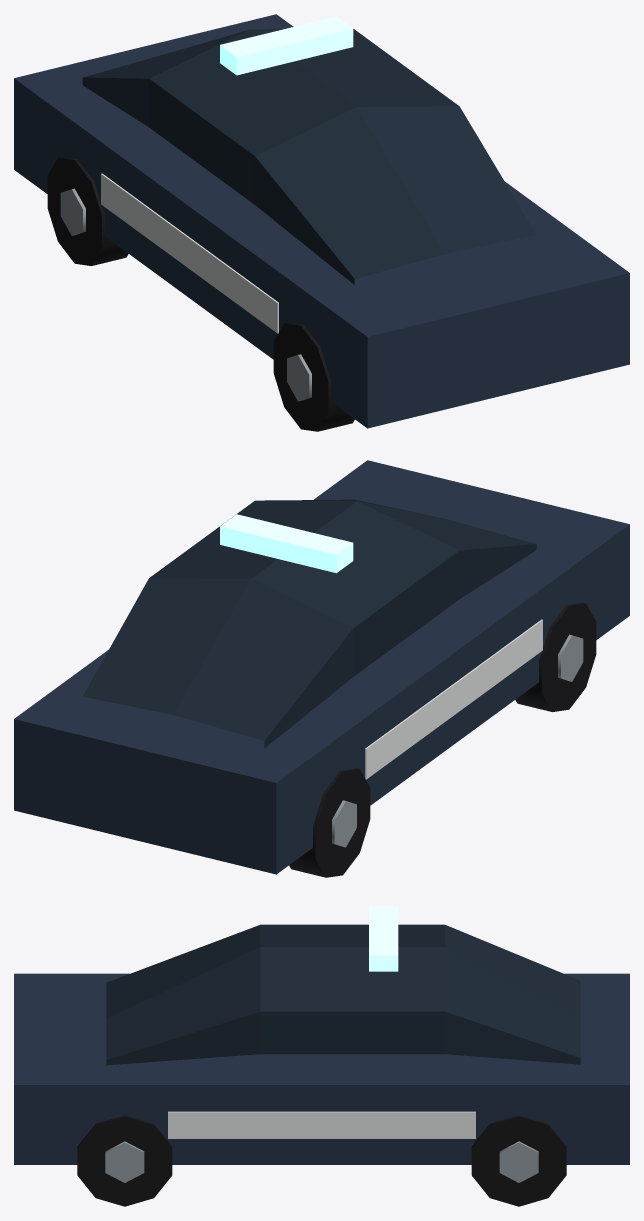
Rendered from veh_ground_police_car_a08.glb.
3 renders of one model, top to bottom at view 1: azimuth 30°, elevation 25°; view 2: azimuth 150°, elevation 25°; view 3: azimuth 270°, elevation 25°, orthographic. The views are drawn at different scales.
Visible parts, largest first — view 1: body, wheel_2, wheel_0; view 2: body, wheel_0, wheel_2; view 3: body, wheel_1, wheel_3.
Part boxes in pixels (x1,y1,x2,y2): body: [14, 14, 629, 428]; wheel_2: [273, 322, 354, 431]; wheel_0: [47, 157, 128, 265]; body: [14, 460, 629, 874]; wheel_0: [289, 768, 370, 877]; wheel_2: [515, 603, 596, 711]; body: [14, 906, 629, 1164]; wheel_1: [471, 1115, 566, 1206]; wheel_3: [77, 1115, 172, 1206].
Size of what is drawn, in the model's own units: 1.88 by 1.65 by 4.2.
